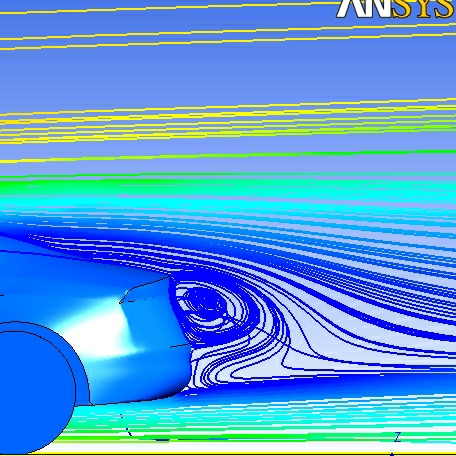vortox: (171, 269, 267, 344)
